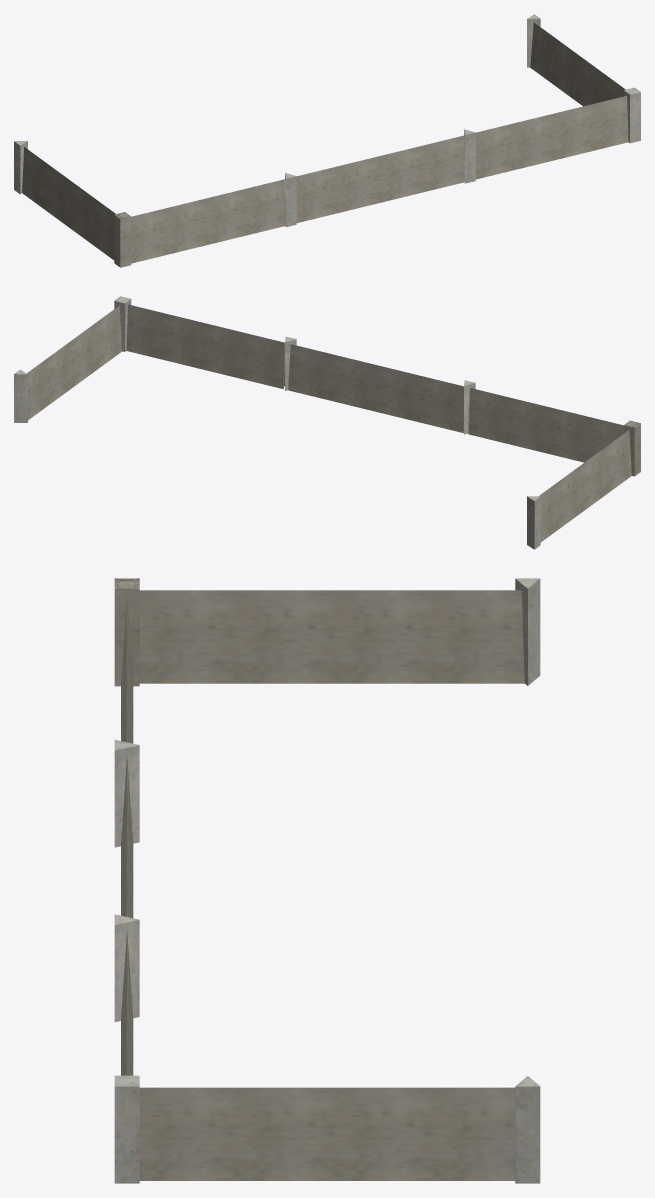
The model's file is poi_all_corral_half_64x64_s04_l1.fbx.
The picture shows the model from 3 angles, top to bottom: view 1: azimuth 30°, elevation 25°; view 2: azimuth 150°, elevation 25°; view 3: azimuth 270°, elevation 25°; orthographic projection. The views are drawn at different scales.
Parts seen in each view (by area): view 1: mesh_node; view 2: mesh_node; view 3: mesh_node.
Boxes of the visible parts, box(x1,y1,x2,y2) form: mesh_node: box(14, 14, 640, 267); mesh_node: box(14, 296, 640, 549); mesh_node: box(114, 578, 540, 1183).
Size of the model in its own units: 48 by 4.29 by 17.
